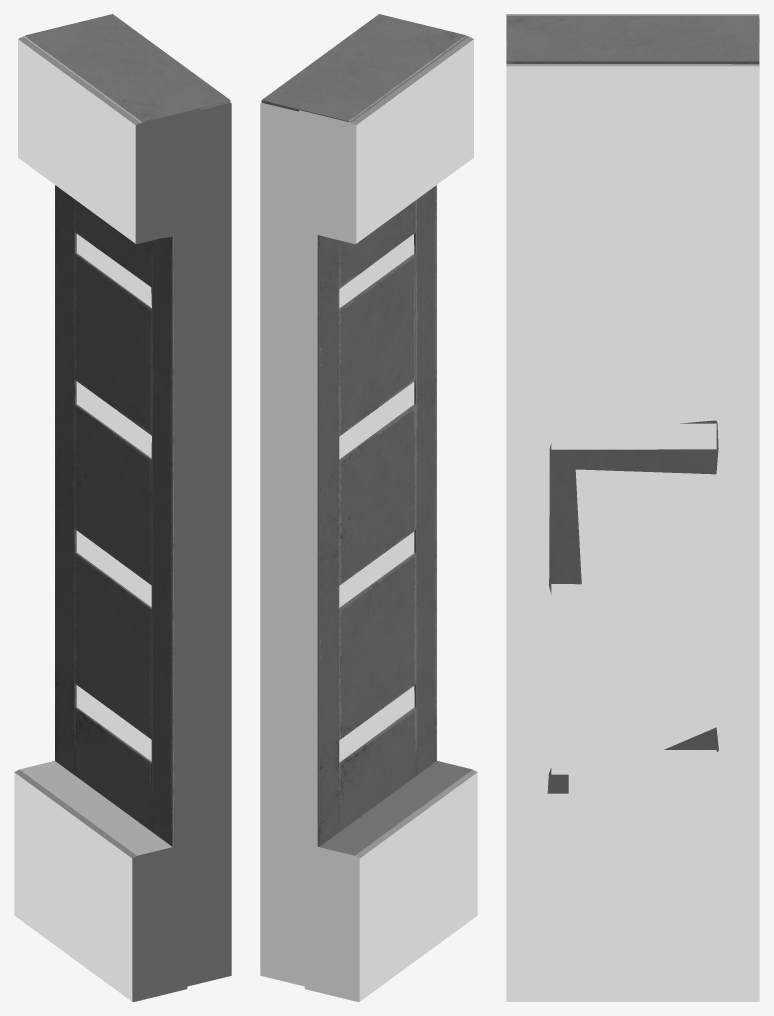
File: SM_Pillar.fbx
The picture shows the model from 3 angles, left to right: view 1: azimuth 30°, elevation 25°; view 2: azimuth 150°, elevation 25°; view 3: azimuth 270°, elevation 25°; orthographic projection. The views are drawn at different scales.
Visible parts, largest first — view 1: SM_Pillar_ConvexHulls, SM_Pillar_LOD0; view 2: SM_Pillar_ConvexHulls, SM_Pillar_LOD0; view 3: SM_Pillar_ConvexHulls, SM_Pillar_LOD0.
Part boxes in pixels (box(x1,y1,x2,y2)): SM_Pillar_ConvexHulls: box(14, 36, 231, 1001); SM_Pillar_LOD0: box(25, 14, 230, 846); SM_Pillar_ConvexHulls: box(260, 36, 477, 1001); SM_Pillar_LOD0: box(261, 14, 466, 846); SM_Pillar_ConvexHulls: box(506, 14, 759, 1001); SM_Pillar_LOD0: box(506, 16, 759, 793).
Bounding box in the file's own units: 46.97 × 96.36 × 396.
